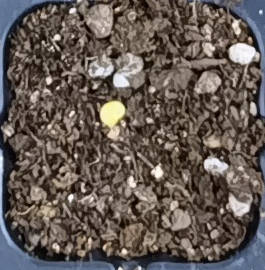chilli seed: (99, 100, 126, 129)
